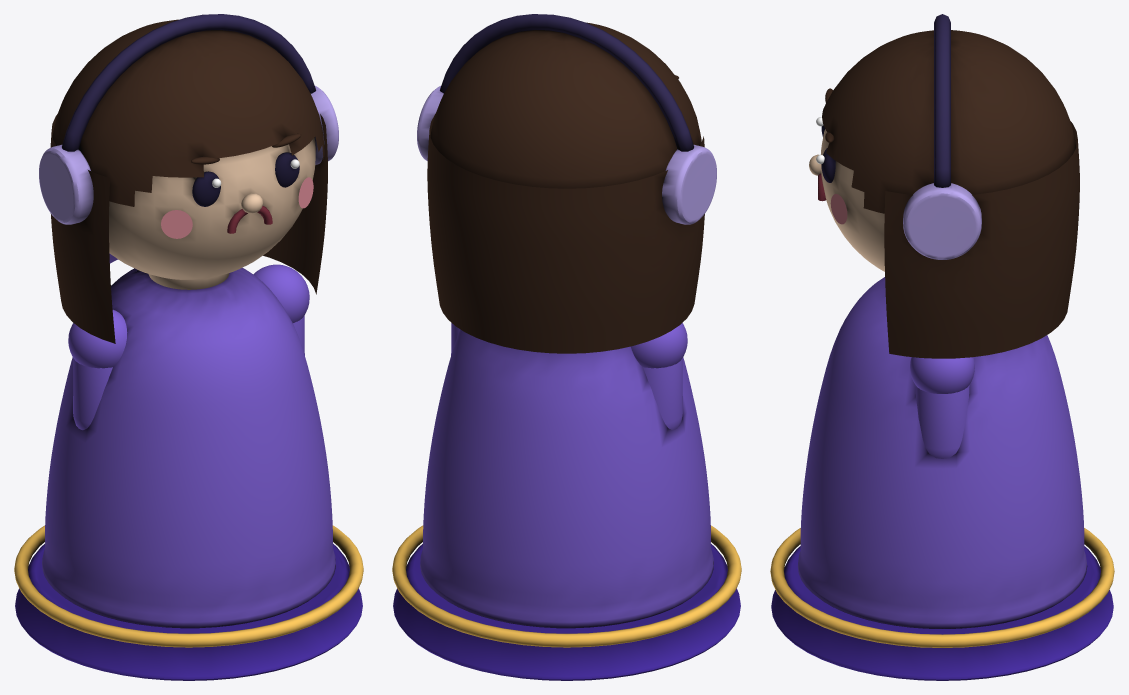
File: crew1.glb
3 views of the same model, side by side, from view 1: azimuth 30°, elevation 25°; view 2: azimuth 150°, elevation 25°; view 3: azimuth 270°, elevation 25° (orthographic).
Parts seen in each view (by area): view 1: part_body.001, part_hair, part_head.001, part_base, part_locks, part_rim, part_band, part_cup-1, part_cap_R, part_cap_L, part_upper_R, part_cup1 (+4 smaller); view 2: part_body.001, part_locks, part_hair, part_base, part_rim, part_band, part_cup-1, part_upper_R, part_cap_R, part_cup1; view 3: part_body.001, part_hair, part_locks, part_base, part_rim, part_cup1, part_head.001, part_upper_L, part_band, part_cap_L.
Part boxes in pixels (left/top/right/bottom): part_body.001: left=42, top=267, right=335, bottom=628; part_hair: left=52, top=19, right=324, bottom=206; part_head.001: left=109, top=137, right=315, bottom=279; part_base: left=15, top=543, right=362, bottom=680; part_locks: left=50, top=114, right=327, bottom=343; part_rim: left=14, top=525, right=363, bottom=647; part_band: left=62, top=14, right=315, bottom=151; part_cup-1: left=39, top=144, right=93, bottom=224; part_cap_R: left=68, top=309, right=127, bottom=368; part_cap_L: left=253, top=264, right=309, bottom=322; part_upper_R: left=73, top=358, right=112, bottom=430; part_cup1: left=311, top=86, right=338, bottom=164; part_body.001: left=420, top=329, right=713, bottom=628; part_locks: left=427, top=114, right=704, bottom=353; part_hair: left=430, top=22, right=701, bottom=188; part_base: left=393, top=543, right=740, bottom=680; part_rim: left=392, top=525, right=741, bottom=647; part_band: left=440, top=14, right=693, bottom=151; part_cup-1: left=662, top=144, right=716, bottom=224; part_upper_R: left=643, top=358, right=682, bottom=430; part_cap_R: left=630, top=323, right=687, bottom=368; part_cup1: left=417, top=86, right=443, bottom=160; part_body.001: left=797, top=277, right=1087, bottom=628; part_hair: left=822, top=30, right=1076, bottom=213; part_locks: left=884, top=121, right=1079, bottom=358; part_base: left=771, top=546, right=1113, bottom=680; part_rim: left=770, top=528, right=1114, bottom=647; part_cup1: left=903, top=183, right=981, bottom=259; part_head.001: left=821, top=129, right=884, bottom=271; part_upper_L: left=915, top=385, right=969, bottom=458; part_band: left=934, top=14, right=950, bottom=187; part_cap_L: left=910, top=357, right=974, bottom=393.
Size of the model in its own units: 0.656 by 1.22 by 0.656.
